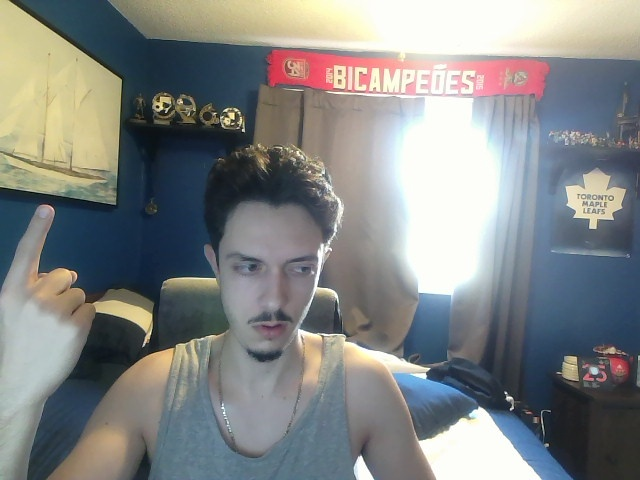Up: (1, 204, 96, 397)
